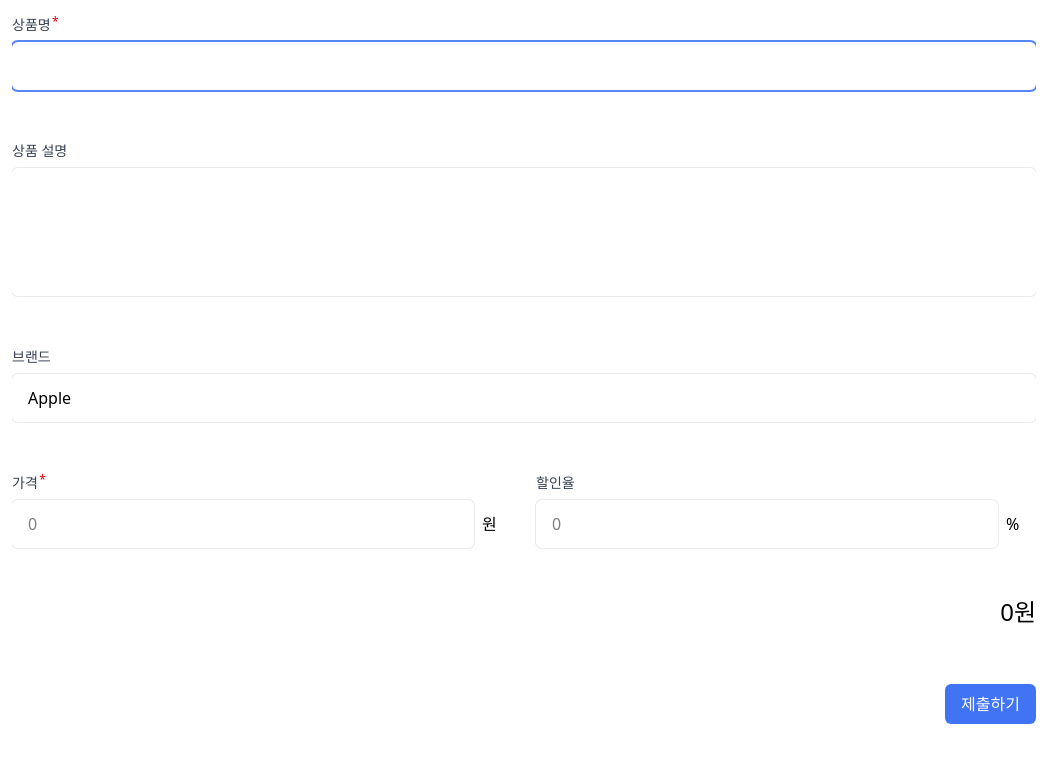
Test case: ProductForm › 가격에서 할인율로 계산된 최종 가격이 실시간으로 렌더링된다.
Type "3000" into the number field labelled "가격". click: coordinates (243, 524)
box: [12,500,474,548]
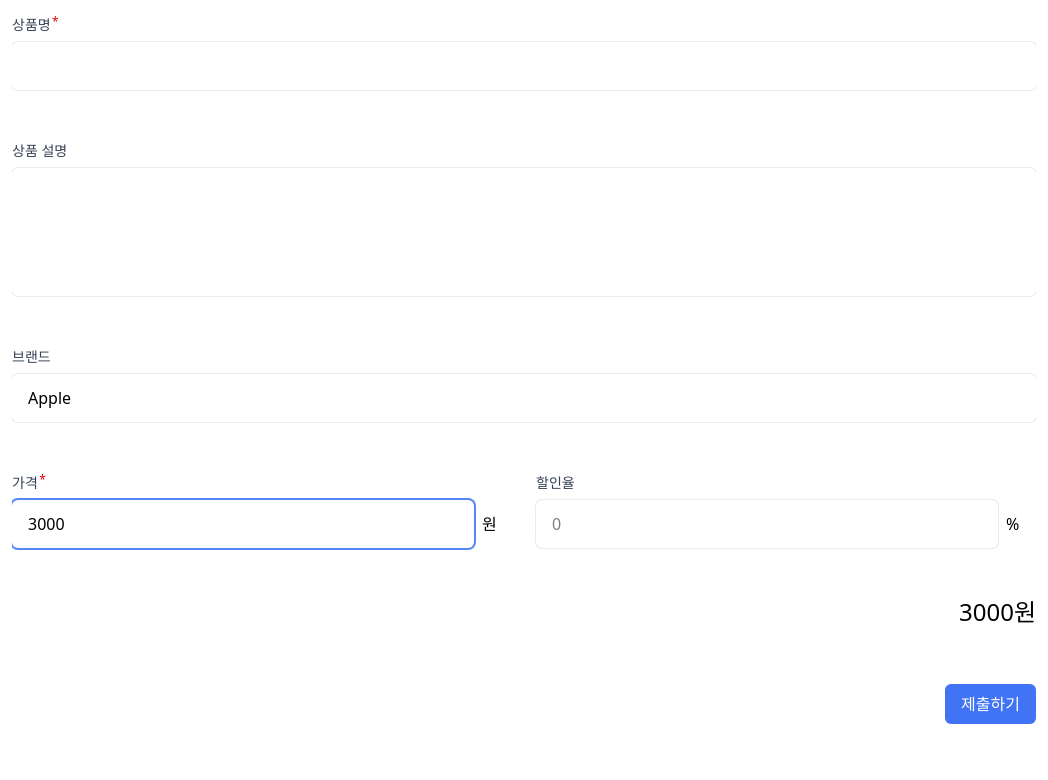
Type "10" into the number field labelled "할인율". click: coordinates (767, 524)
box: [536,500,998,548]
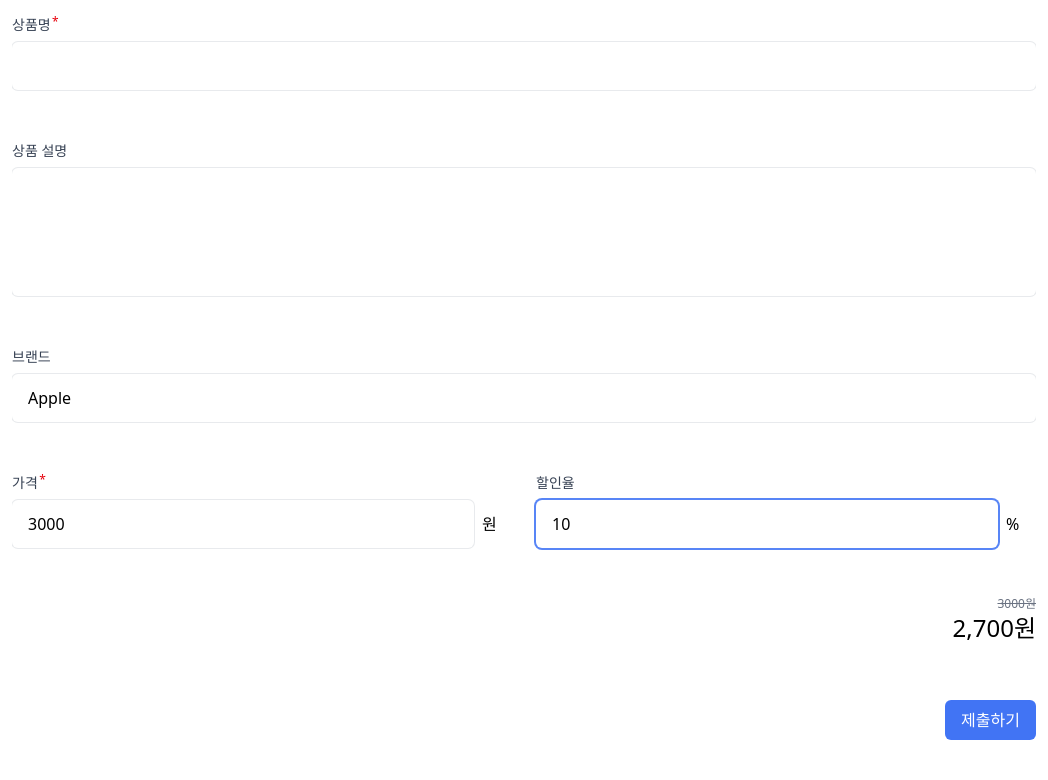
Expected: the text "2,700원" is shown, [952,612,1036,644]
